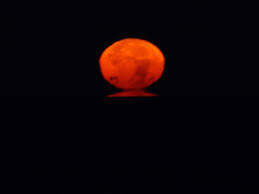moon: (98, 37, 166, 89)
